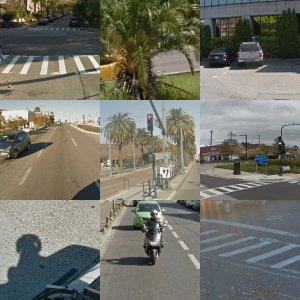公車: (229, 112, 300, 185), (127, 129, 181, 175), (32, 243, 89, 272)
汽車: (238, 17, 263, 34), (154, 13, 172, 31)
紅綠燈: (18, 1, 51, 27)
行人穿越道: (101, 37, 200, 60)
高山或山丘: (99, 211, 197, 239)
